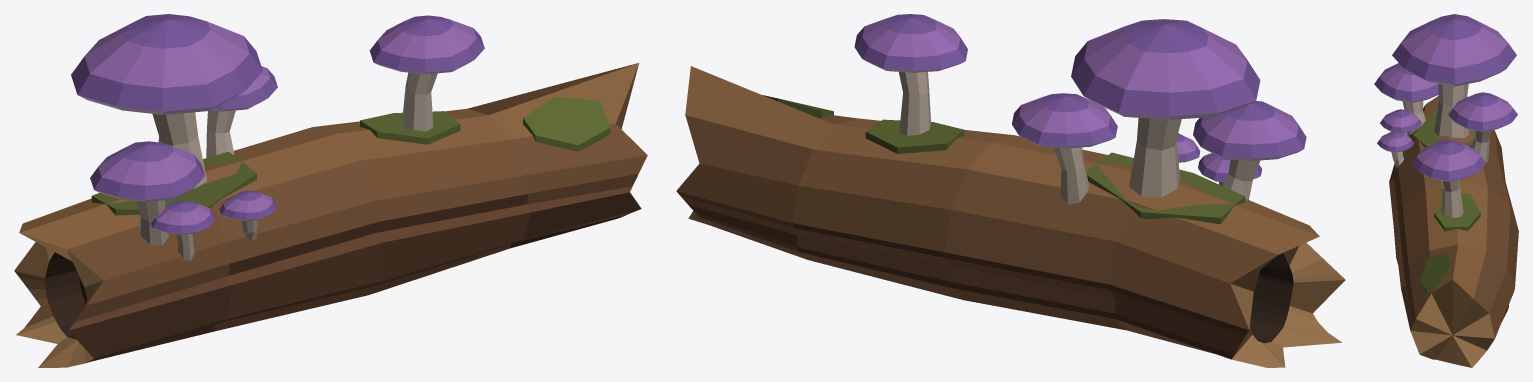
The picture shows the model from 3 angles, left to right: view 1: azimuth 30°, elevation 25°; view 2: azimuth 150°, elevation 25°; view 3: azimuth 270°, elevation 25°; orthographic projection. The views are drawn at different scales.
Parts seen in each view (by area): view 1: r4_log, r4_cap_hero, r4_cap_near_medium, r4_cap_far_medium, r4_moss_2, r4_moss_0, r4_moss_1, r4_stem_far_medium, r4_stem_hero, r4_cap_near_young_a, r4_cap_near_young_b, r4_cap_back_medium (+2 smaller); view 2: r4_log, r4_cap_hero, r4_cap_far_medium, r4_cap_near_medium, r4_cap_back_medium, r4_stem_hero, r4_moss_0, r4_moss_1, r4_stem_far_medium, r4_stem_back_medium, r4_stem_near_medium, r4_cap_near_young_a; view 3: r4_log, r4_cap_hero, r4_cap_far_medium, r4_cap_back_medium, r4_cap_near_medium, r4_stem_hero, r4_moss_1, r4_moss_2, r4_stem_far_medium, r4_cap_near_young_a, r4_cap_near_young_b, r4_moss_0 (+3 smaller).
Boxes of the visible parts, <box> form: r4_log: <box>14,63,647,367</box>; r4_cap_hero: <box>71,14,262,114</box>; r4_cap_near_medium: <box>90,141,205,201</box>; r4_cap_far_medium: <box>369,15,484,74</box>; r4_moss_2: <box>523,97,610,151</box>; r4_moss_0: <box>91,151,256,215</box>; r4_moss_1: <box>360,111,460,144</box>; r4_stem_far_medium: <box>402,72,437,131</box>; r4_stem_hero: <box>152,112,206,188</box>; r4_cap_near_young_a: <box>151,200,215,234</box>; r4_cap_near_young_b: <box>219,190,276,220</box>; r4_cap_back_medium: <box>210,66,277,111</box>; r4_log: <box>676,66,1345,367</box>; r4_cap_hero: <box>1071,19,1260,119</box>; r4_cap_far_medium: <box>854,14,967,72</box>; r4_cap_near_medium: <box>1193,101,1306,160</box>; r4_cap_back_medium: <box>1012,93,1117,148</box>; r4_stem_hero: <box>1129,118,1181,197</box>; r4_moss_0: <box>1086,152,1244,224</box>; r4_moss_1: <box>865,119,964,153</box>; r4_stem_far_medium: <box>899,72,930,135</box>; r4_stem_back_medium: <box>1054,147,1088,204</box>; r4_stem_near_medium: <box>1223,159,1260,199</box>; r4_cap_near_young_a: <box>1198,153,1262,182</box>; r4_log: <box>1389,96,1518,367</box>; r4_cap_hero: <box>1392,14,1516,86</box>; r4_cap_far_medium: <box>1411,139,1485,181</box>; r4_cap_back_medium: <box>1448,92,1517,131</box>; r4_cap_near_medium: <box>1374,63,1438,102</box>; r4_stem_hero: <box>1434,84,1469,138</box>; r4_moss_1: <box>1434,193,1480,231</box>; r4_moss_2: <box>1420,253,1450,293</box>; r4_stem_far_medium: <box>1441,179,1463,217</box>; r4_cap_near_young_a: <box>1380,109,1421,133</box>; r4_cap_near_young_b: <box>1377,131,1414,152</box>; r4_moss_0: <box>1413,108,1472,147</box>.
Bounding box in the file's own units: 1.82 × 0.825 × 0.5468.
